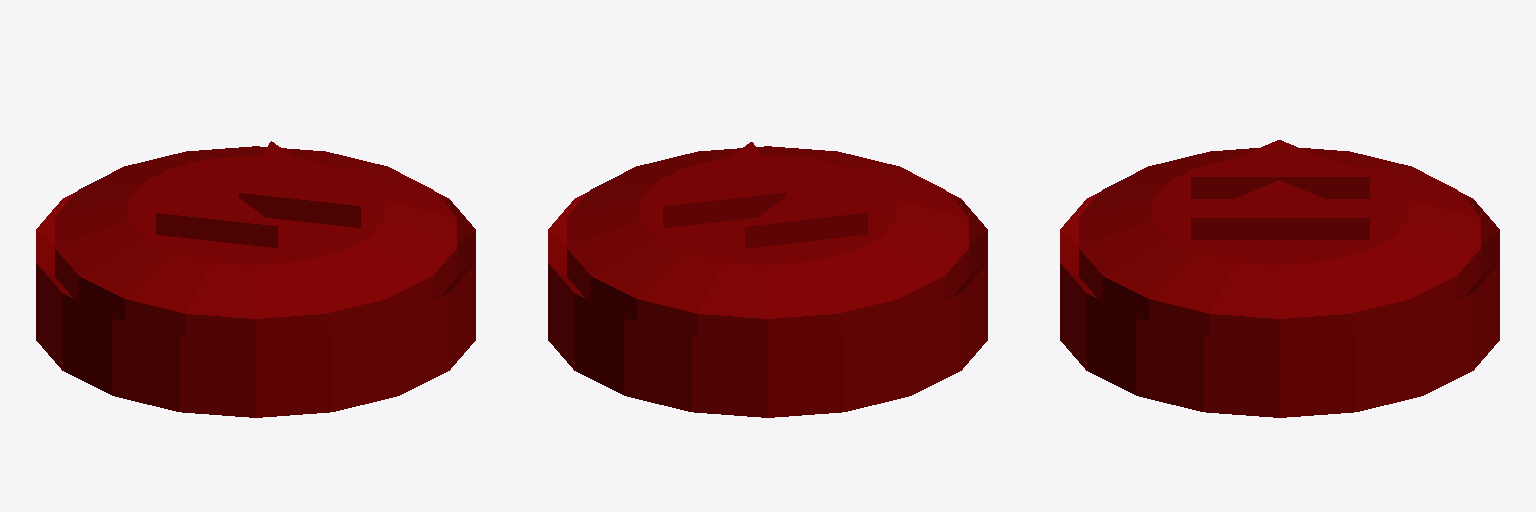
Rendered from Button.obj.
The picture shows the model from 3 angles: view 1: azimuth 30°, elevation 25°; view 2: azimuth 150°, elevation 25°; view 3: azimuth 270°, elevation 25°; orthographic projection.
Parts seen in each view (by area): view 1: Cylinder001, Box001, Box002; view 2: Cylinder001, Box001, Box002; view 3: Cylinder001, Box002, Box001.
Boxes of the visible parts, x1=… form: Cylinder001: x1=36, y1=146, x2=475, y2=417; Box001: x1=156, y1=161, x2=277, y2=247; Box002: x1=239, y1=141, x2=360, y2=227; Cylinder001: x1=548, y1=146, x2=987, y2=417; Box001: x1=745, y1=162, x2=867, y2=248; Box002: x1=663, y1=142, x2=785, y2=227; Cylinder001: x1=1060, y1=148, x2=1499, y2=417; Box002: x1=1191, y1=180, x2=1369, y2=239; Box001: x1=1191, y1=140, x2=1369, y2=198.
Bounding box in the file's own units: 48.15 × 16.09 × 47.42.